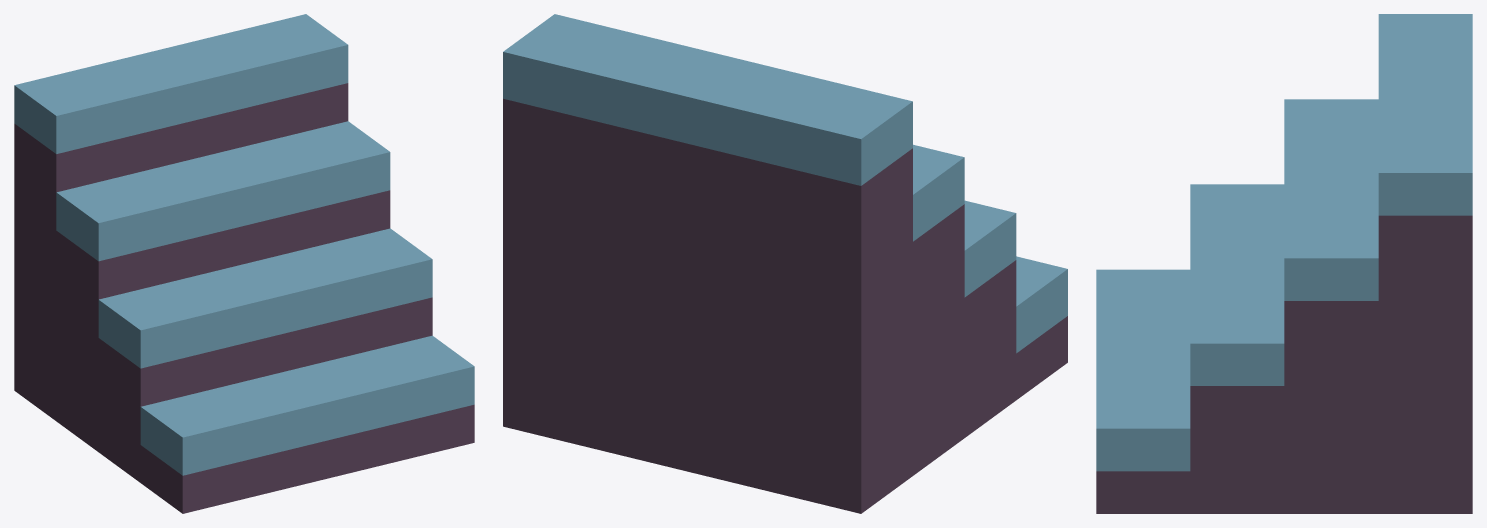
File: Stairs.dae
3 renders of one model, left to right at view 1: azimuth 30°, elevation 25°; view 2: azimuth 150°, elevation 25°; view 3: azimuth 270°, elevation 25°, orthographic. The views are drawn at different scales.
Parts seen in each view (by area): view 1: Stairs; view 2: Stairs; view 3: Stairs.
Boxes of the visible parts, x1,y1,x2,y2 form: Stairs: (14,14,474,513); Stairs: (503,14,1067,513); Stairs: (1096,14,1472,513).
Bounding box in the file's own units: 1 × 1 × 1.
